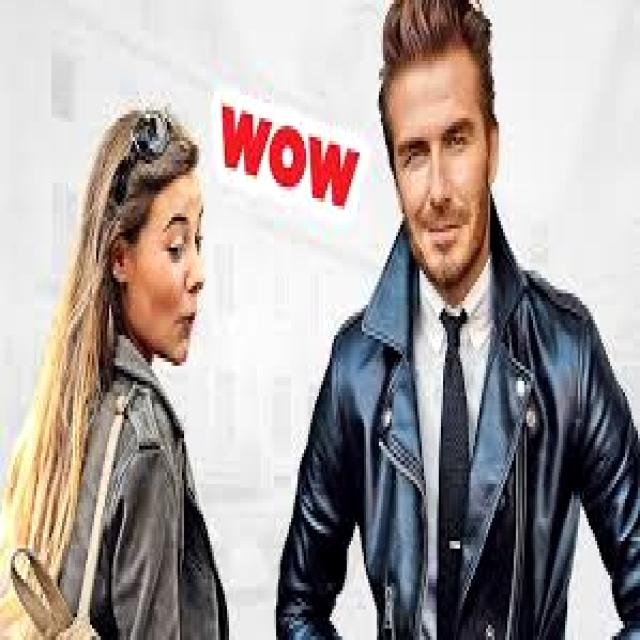face: (388, 46, 498, 304), (112, 172, 203, 365)
top-wear: (276, 274, 639, 640)
